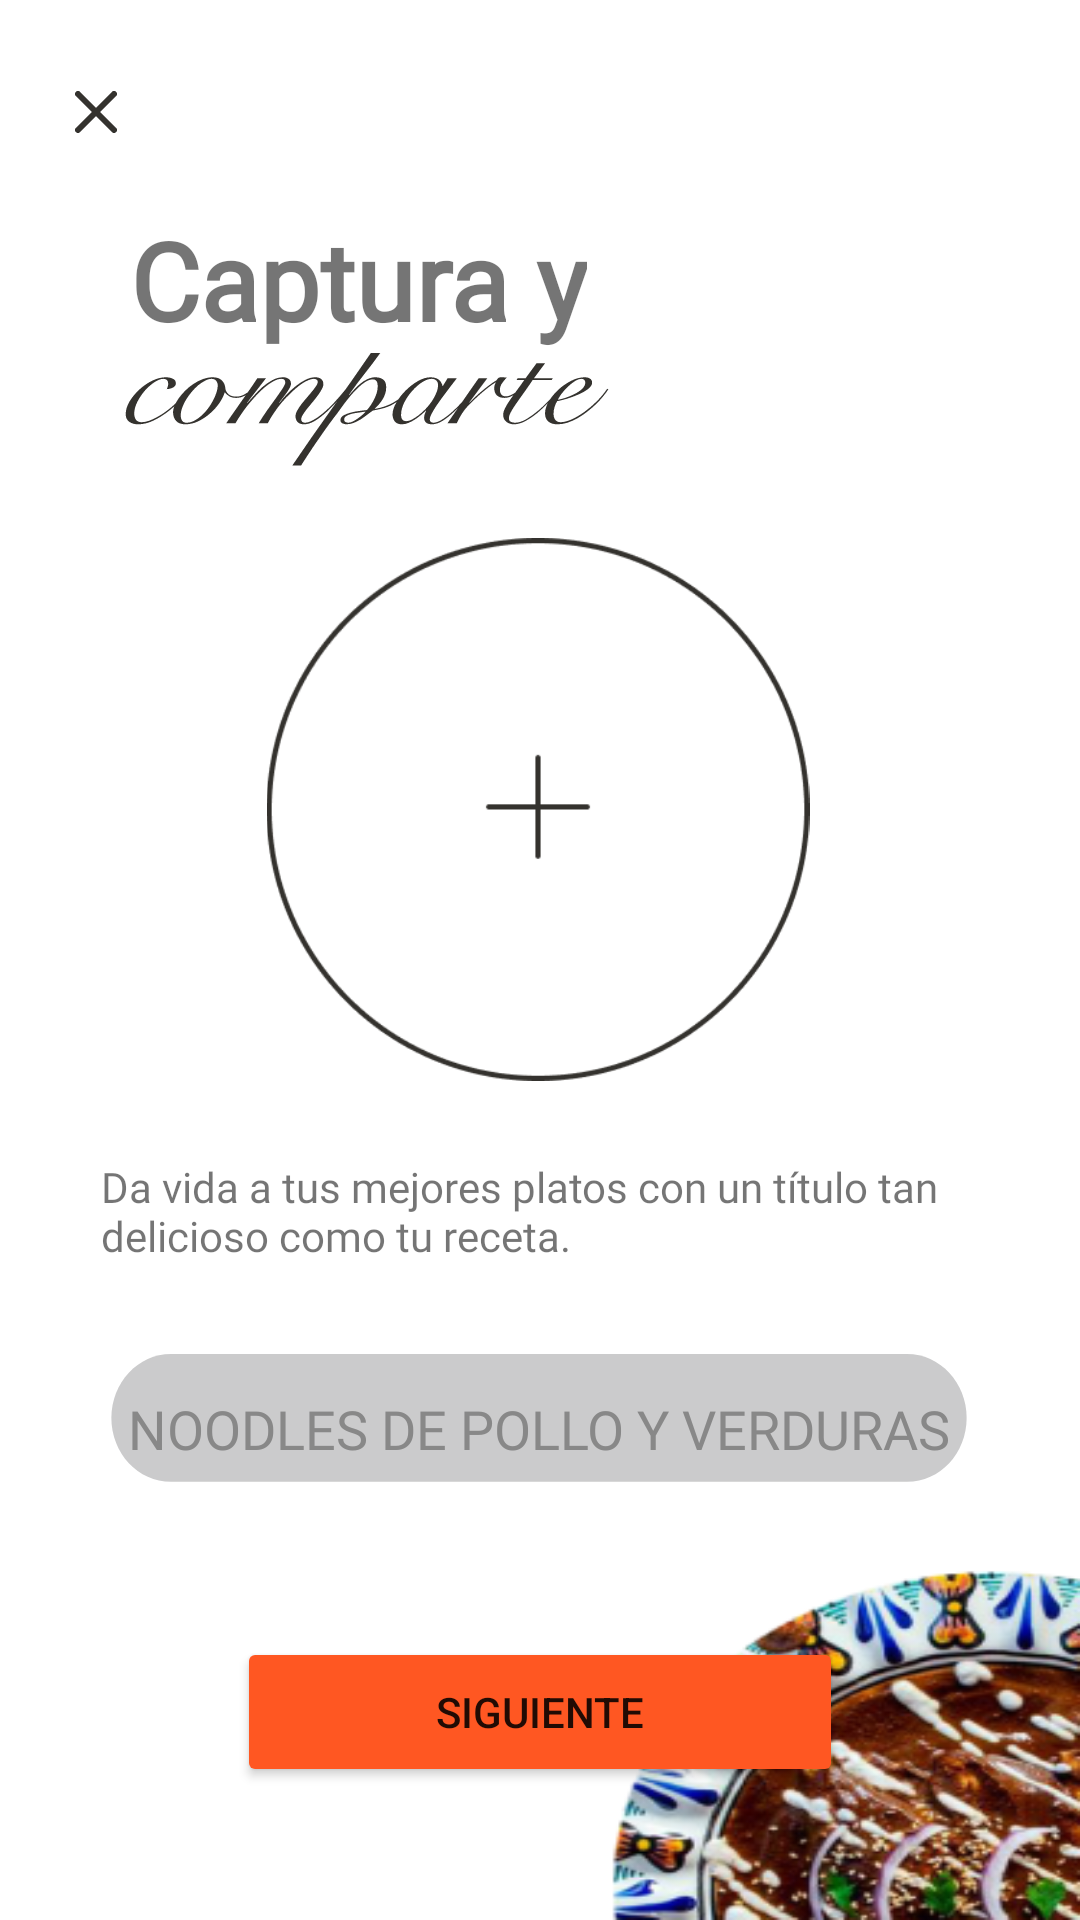

Icons on this 1080x1920 Android screen, each with the point to tap as (x=x, y=y):
cerrar: (x=96, y=112)
